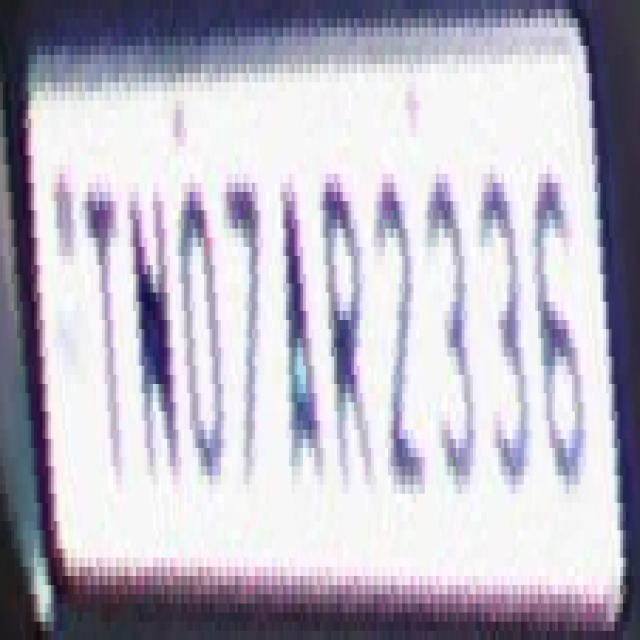license_plate: (9, 9, 606, 604)
